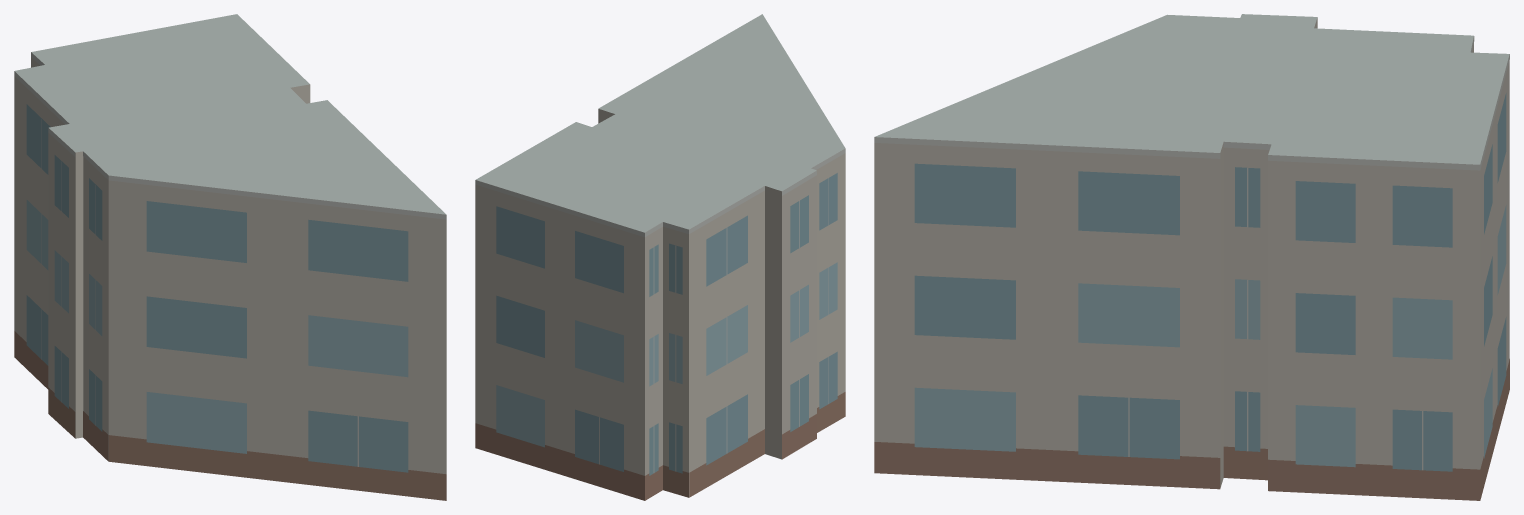
File: survey-upis-32837869.glb
The picture shows the model from 3 angles, left to right: view 1: azimuth 30°, elevation 25°; view 2: azimuth 150°, elevation 25°; view 3: azimuth 270°, elevation 25°; orthographic projection. The views are drawn at different scales.
Parts seen in each view (by area): view 1: survey-upis-32837869.tmp; view 2: survey-upis-32837869.tmp; view 3: survey-upis-32837869.tmp.
Boxes of the visible parts, box(x1,y1,x2,y2) form: survey-upis-32837869.tmp: box(14, 14, 446, 500); survey-upis-32837869.tmp: box(475, 14, 845, 500); survey-upis-32837869.tmp: box(874, 14, 1509, 500).
Size of the model in its own units: 13.58 by 14.1 by 24.17.
